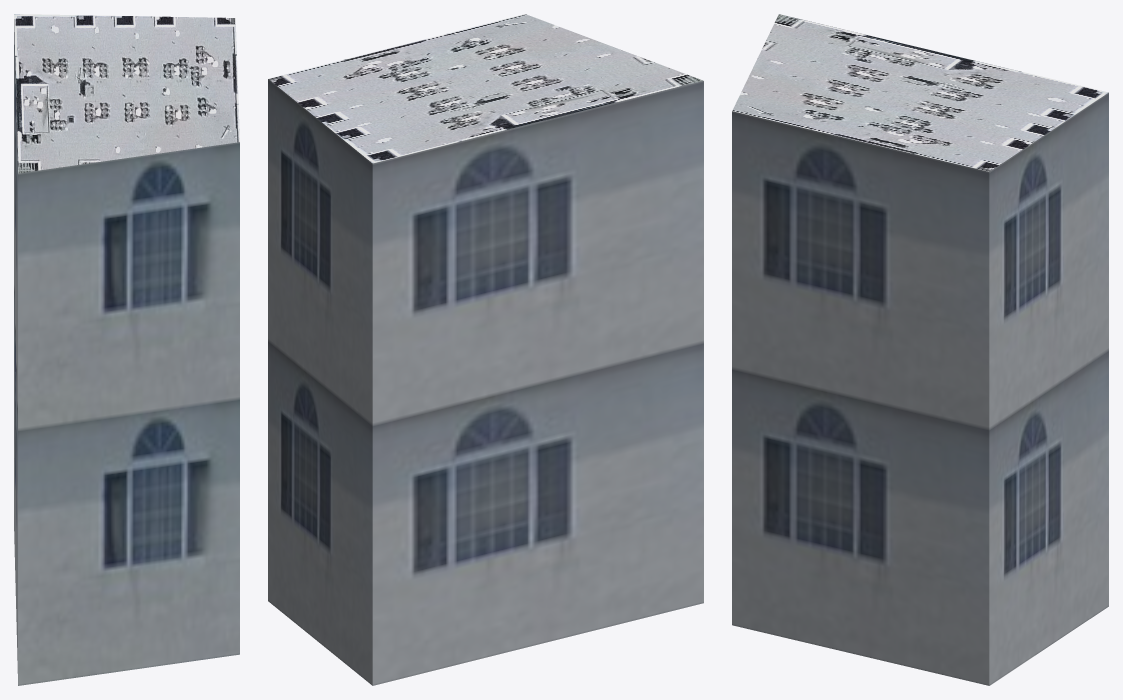
The model's file is ResTex__771.fbx.
3 views of the same model, side by side, from view 1: azimuth 30°, elevation 25°; view 2: azimuth 150°, elevation 25°; view 3: azimuth 270°, elevation 25° (orthographic).
Parts seen in each view (by area): view 1: CityEngineMaterial_17_m, CityEngineMaterial_8_m; view 2: CityEngineMaterial_17_m, CityEngineMaterial_8_m; view 3: CityEngineMaterial_17_m, CityEngineMaterial_8_m.
Boxes of the visible parts, <box> form: CityEngineMaterial_17_m: <box>14,19,239,685</box>; CityEngineMaterial_8_m: <box>14,14,239,173</box>; CityEngineMaterial_17_m: <box>268,79,703,685</box>; CityEngineMaterial_8_m: <box>268,14,703,163</box>; CityEngineMaterial_17_m: <box>732,92,1108,685</box>; CityEngineMaterial_8_m: <box>732,14,1108,171</box>.
Bounding box in the file's own units: 3.95 × 6 × 3.98.
Materials: 2 (2 with a texture image).
